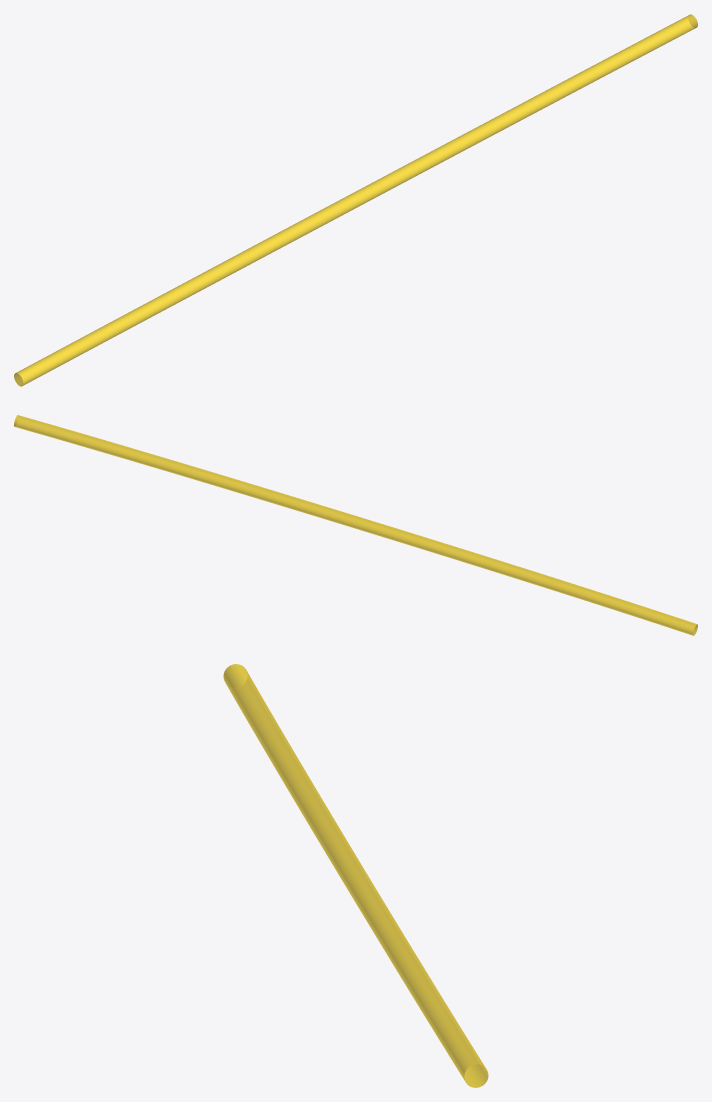
The model's file is Event_419990632_track_45.fbx.
The picture shows the model from 3 angles, top to bottom: view 1: azimuth 30°, elevation 25°; view 2: azimuth 150°, elevation 25°; view 3: azimuth 270°, elevation 25°; orthographic projection. The views are drawn at different scales.
Visible parts, largest first — view 1: Model; view 2: Model; view 3: Model.
Boxes of the visible parts, <box> form: Model: <box>14,14,697,386</box>; Model: <box>14,415,697,635</box>; Model: <box>223,664,488,1087</box>.
Size of the model in its own units: 2.32 by 0.4042 by 0.4291.
